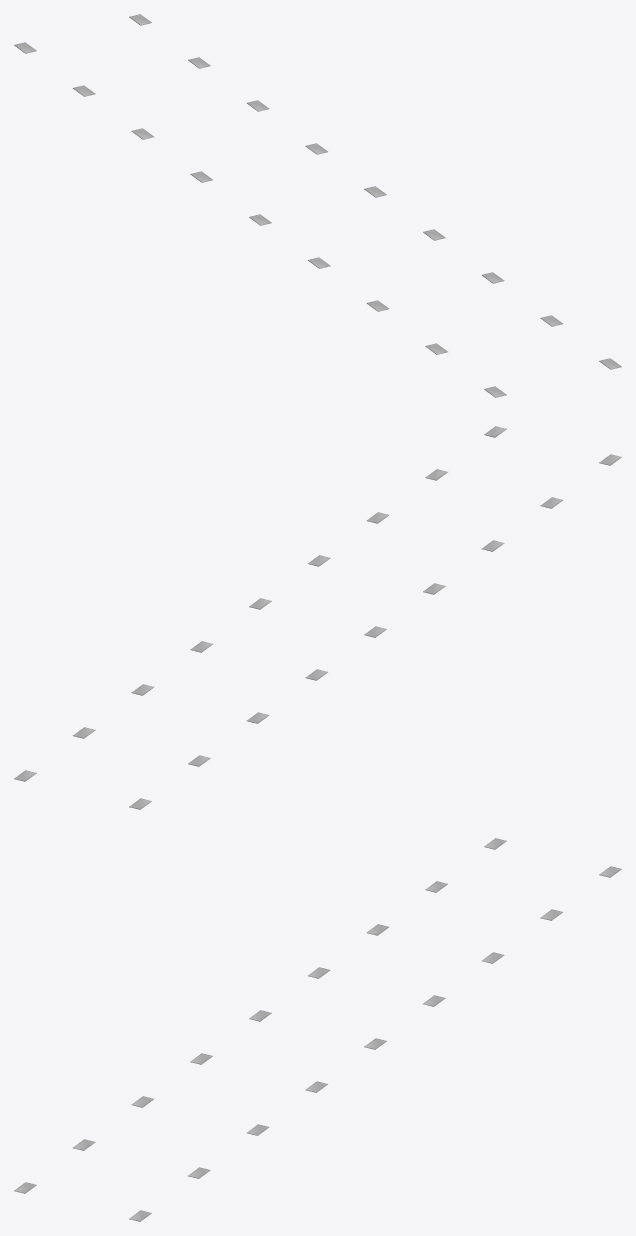
File: Subway06CeilLamp.FBX
3 views of the same model, one above another, from view 1: azimuth 30°, elevation 25°; view 2: azimuth 150°, elevation 25°; view 3: azimuth 330°, elevation 25° (orthographic).
Parts seen in each view (by area): view 1: Subway06CeilLamp; view 2: Subway06CeilLamp; view 3: Subway06CeilLamp.
Part boxes in pixels (box(x1,y1,x2,y2)): Subway06CeilLamp: box(14, 14, 621, 397); Subway06CeilLamp: box(14, 426, 621, 809); Subway06CeilLamp: box(14, 838, 621, 1221).
Size of the model in its own units: 10621 by 32.25 by 70138.
